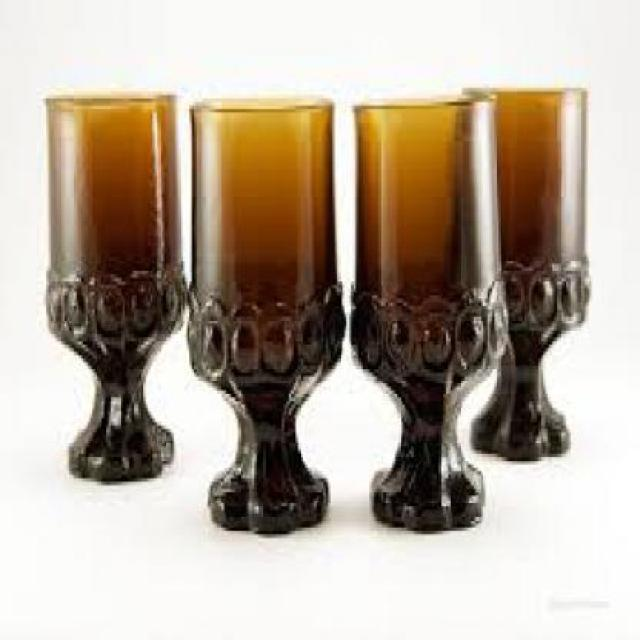kaca: (180, 95, 345, 531), (349, 90, 498, 528), (40, 96, 183, 482), (460, 85, 585, 460)
